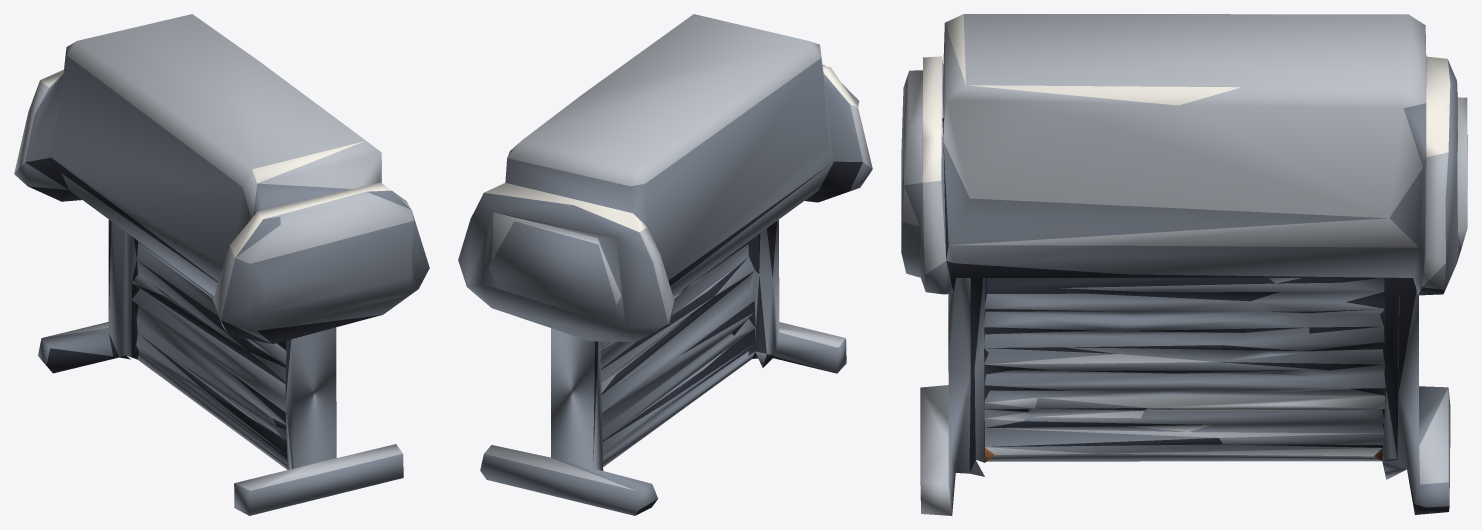
Rendered from SM_heater_wall.fbx.
3 renders of one model, left to right at view 1: azimuth 30°, elevation 25°; view 2: azimuth 150°, elevation 25°; view 3: azimuth 270°, elevation 25°, orthographic. The views are drawn at different scales.
Visible parts, largest first — view 1: SM_heater_wall; view 2: SM_heater_wall; view 3: SM_heater_wall.
Part boxes in pixels (x1,y1,x2,y2): SM_heater_wall: [14, 14, 429, 515]; SM_heater_wall: [458, 14, 872, 515]; SM_heater_wall: [901, 14, 1467, 515].
Bounding box in the file's own units: 19.94 × 30 × 36.68.
1 material, 1 textured.
